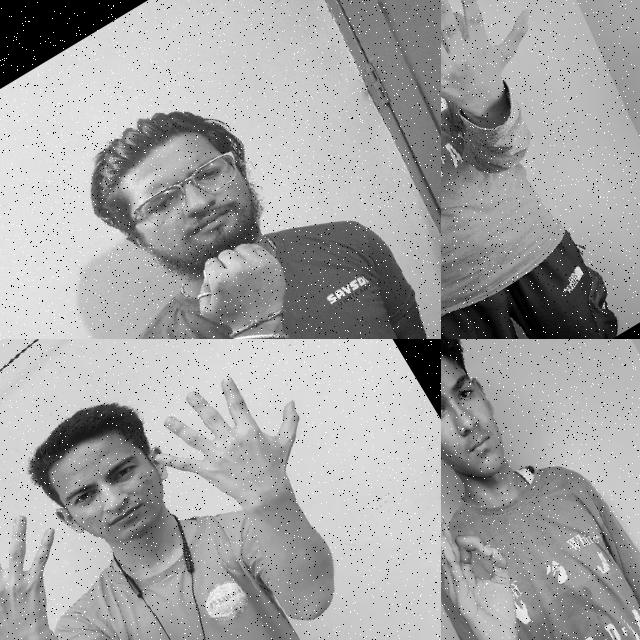Chin Flick: (57, 75, 338, 339)
Moutza: (126, 340, 342, 552), (441, 0, 576, 155), (0, 482, 107, 640)
Okay: (441, 466, 559, 640)
